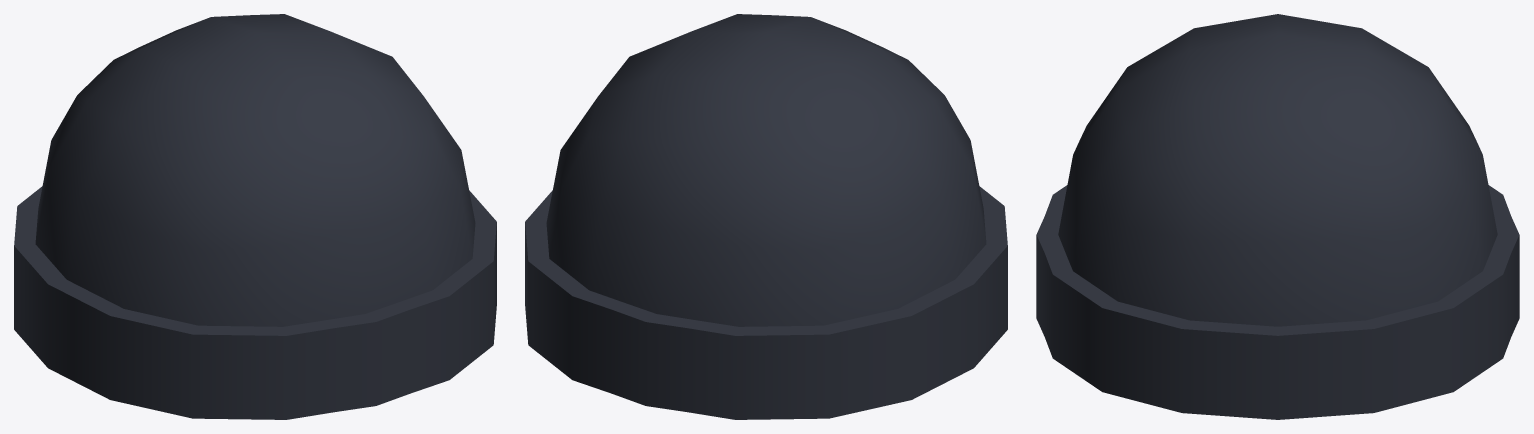
Rendered from Cap.fbx.
3 renders of one model, left to right at view 1: azimuth 30°, elevation 25°; view 2: azimuth 150°, elevation 25°; view 3: azimuth 270°, elevation 25°, orthographic.
Parts seen in each view (by area): view 1: Cap; view 2: Cap; view 3: Cap.
Boxes of the visible parts, bbox=[...] form: Cap: bbox=[14, 14, 496, 419]; Cap: bbox=[525, 14, 1007, 419]; Cap: bbox=[1036, 14, 1519, 419].
Size of the model in its own units: 1.03 by 0.6774 by 1.04.
